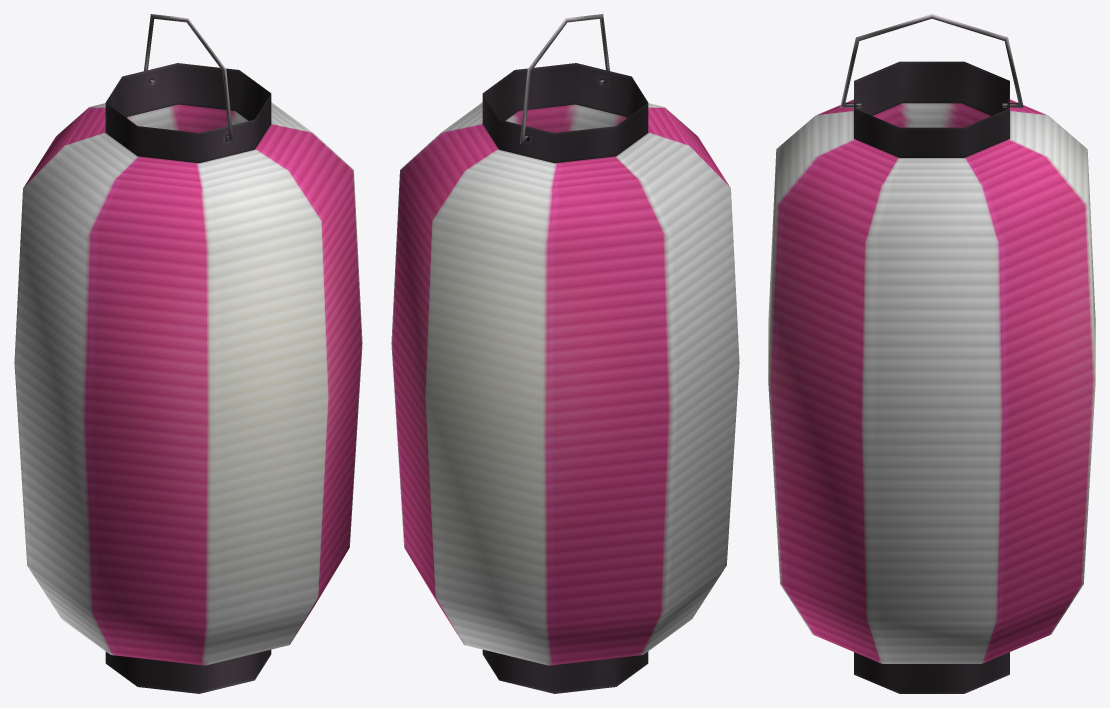
File: jsf_Light_Lantern_07.fbx
The picture shows the model from 3 angles, left to right: view 1: azimuth 30°, elevation 25°; view 2: azimuth 150°, elevation 25°; view 3: azimuth 270°, elevation 25°; orthographic projection.
Parts seen in each view (by area): view 1: Lantern, Handle; view 2: Lantern, Handle; view 3: Lantern, Handle.
Part boxes in pixels (x1=…): Lantern: x1=14, y1=63, x2=362, y2=693; Handle: x1=144, y1=14, x2=233, y2=143; Lantern: x1=391, y1=63, x2=739, y2=693; Handle: x1=520, y1=14, x2=609, y2=143; Lantern: x1=768, y1=61, x2=1095, y2=693; Handle: x1=840, y1=14, x2=1023, y2=107.
Bounding box in the file's own units: 24.44 × 53.27 × 24.44.
